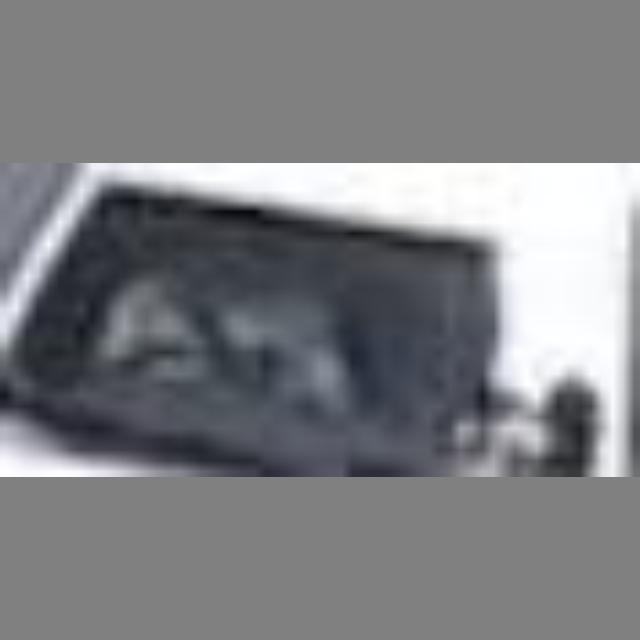pakai: (76, 239, 369, 412)
